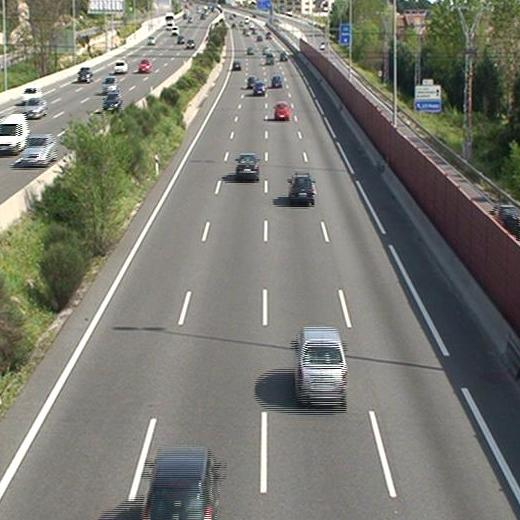car: (143, 450, 220, 520), (292, 328, 348, 406), (287, 174, 315, 204), (234, 153, 260, 180), (273, 101, 289, 121), (253, 82, 266, 96), (271, 74, 282, 87), (230, 59, 240, 71), (246, 75, 256, 85)
